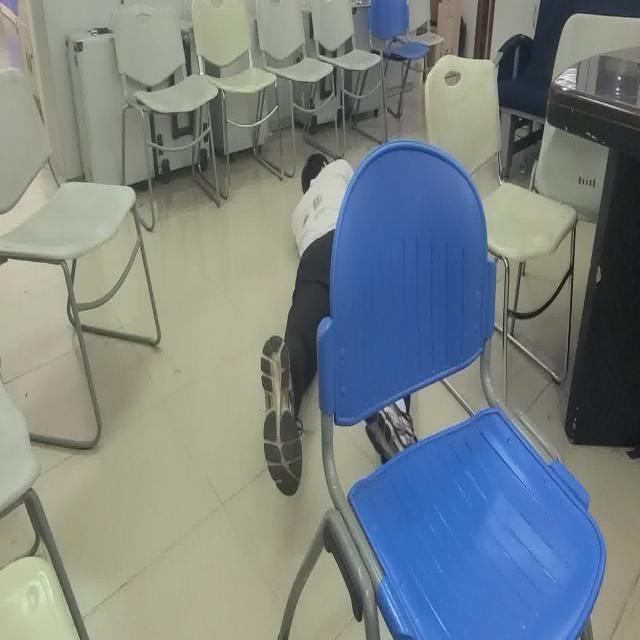Fall-Detected: (258, 149, 422, 494)
